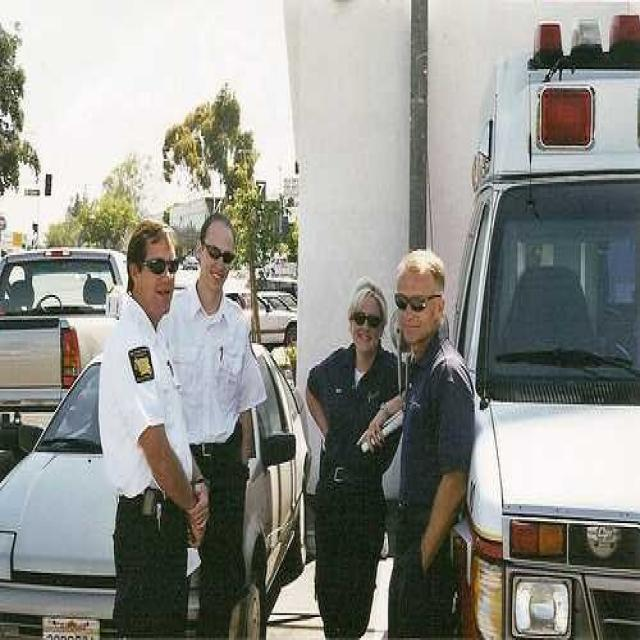firetruck: (400, 19, 640, 640)
